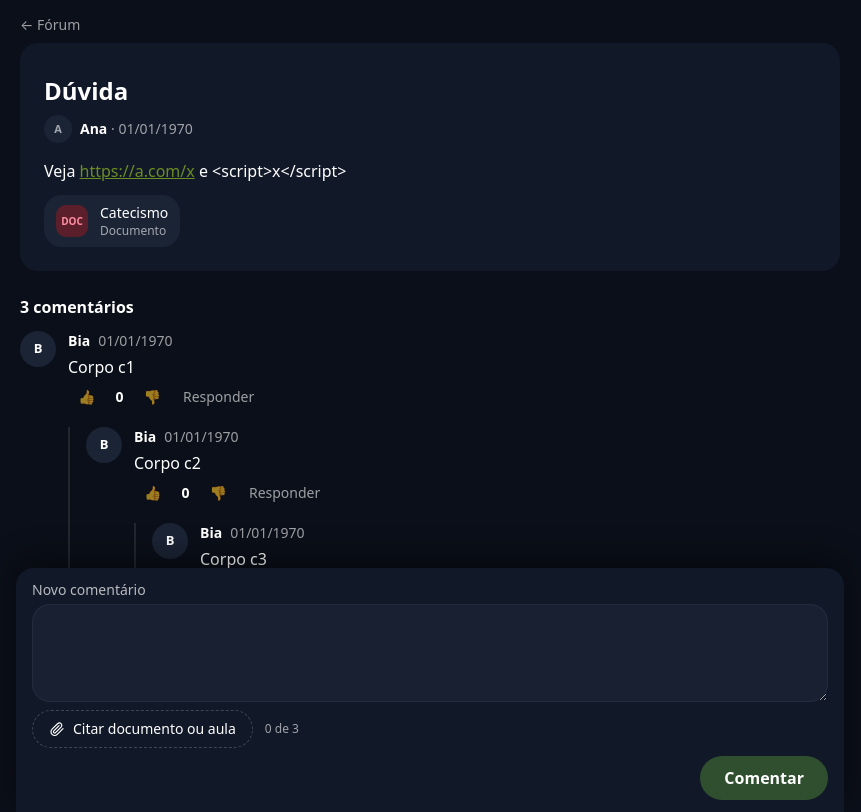
Test: TopicPage — comentar e editar › falha ao comentar mantém o texto e avisa
Check: the text "Corpo c1" is shown, box [68,356,135,378]
Type "Texto" into the text box labelled "Novo comentário" at (430, 653), box [32,604,828,702]
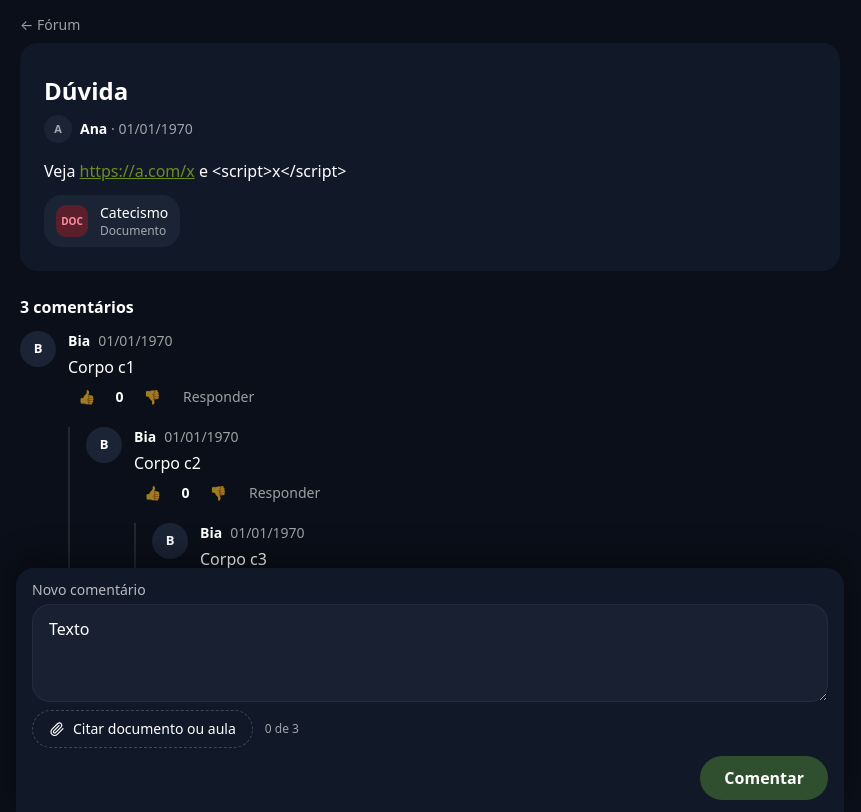
Click the button "Comentar" at (764, 778), box [700,756,828,800]
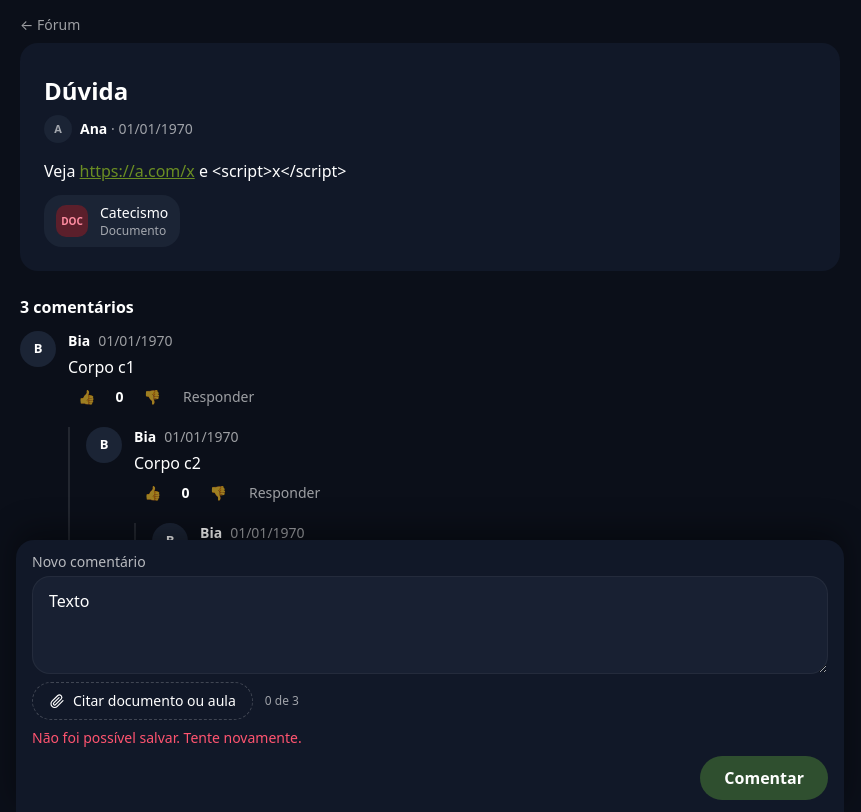
Check: the text "Não foi possível salvar. Tente novamente." is shown, box [32,728,302,747]
